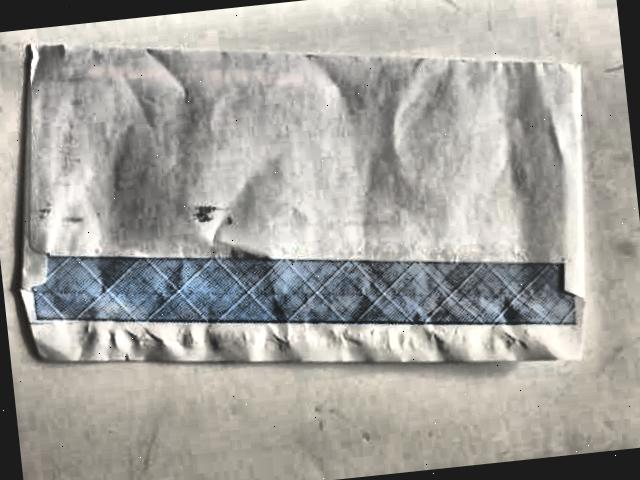Paper: (0, 0, 637, 406)
